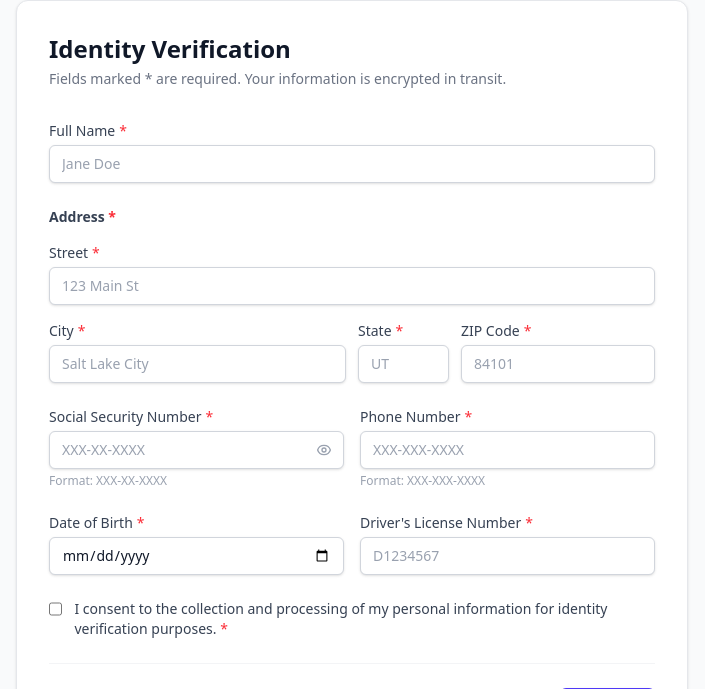
Test: IdentityForm — SSN toggle › clicking Show SSN reveals the real formatted value
Click the button named "show ssn".
click(324, 450)  # box [316,442,332,458]
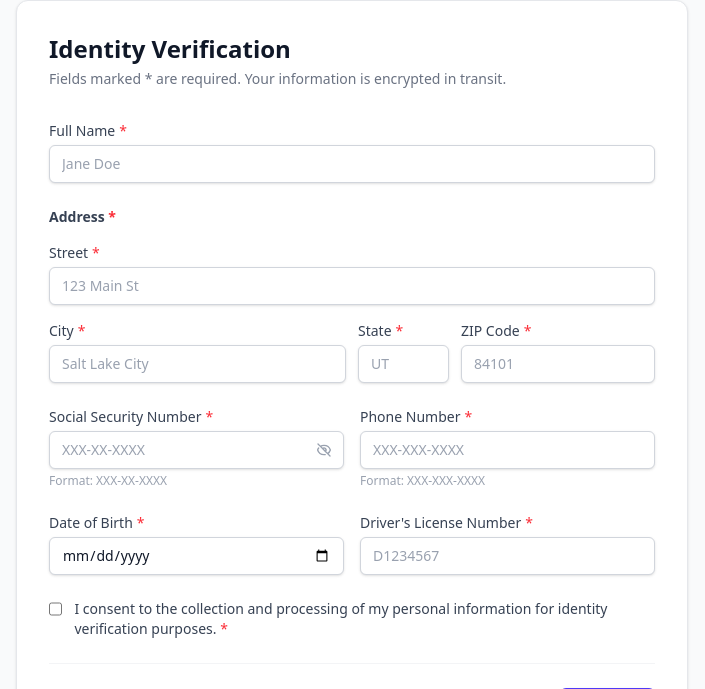
Type "123456789" into the field labelled "Social Security Number*".
click(196, 450); type("123456789")  # box [49,431,344,469]
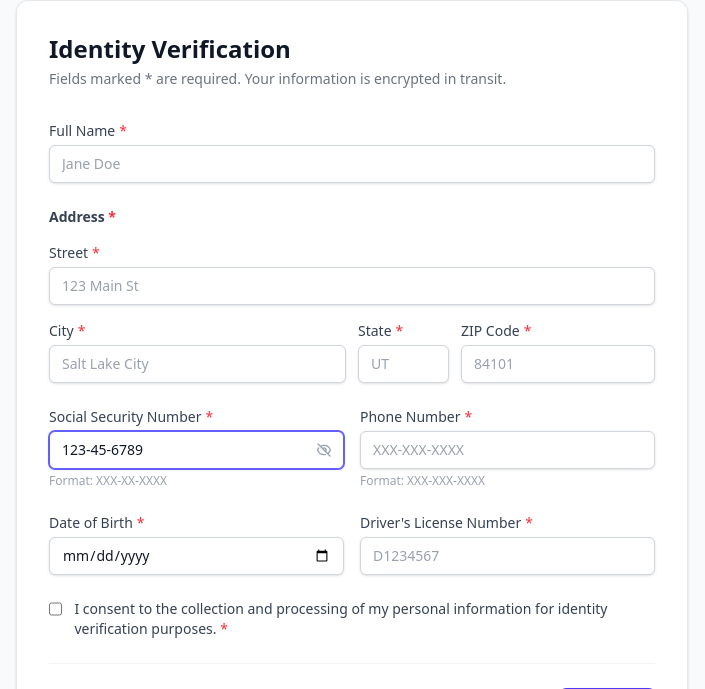
Press Tab
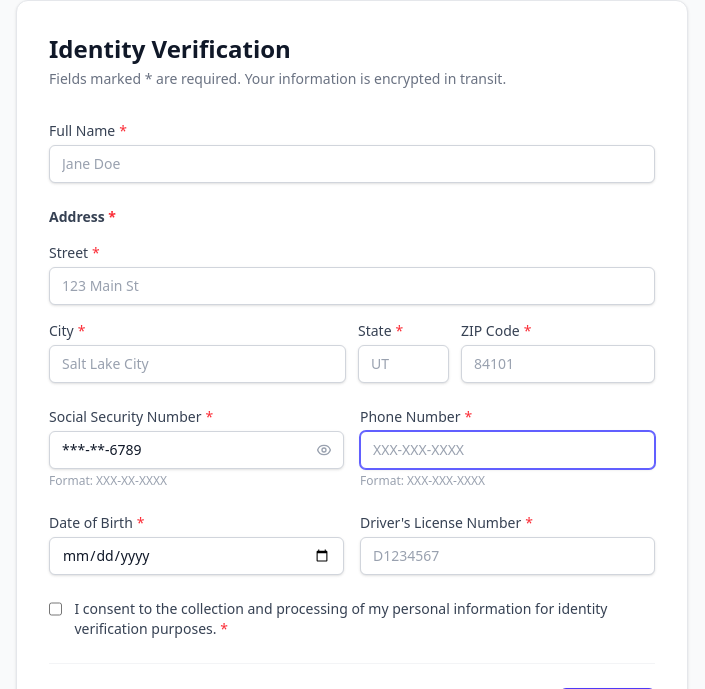
Click the button named "show ssn".
click(324, 450)  # box [316,442,332,458]
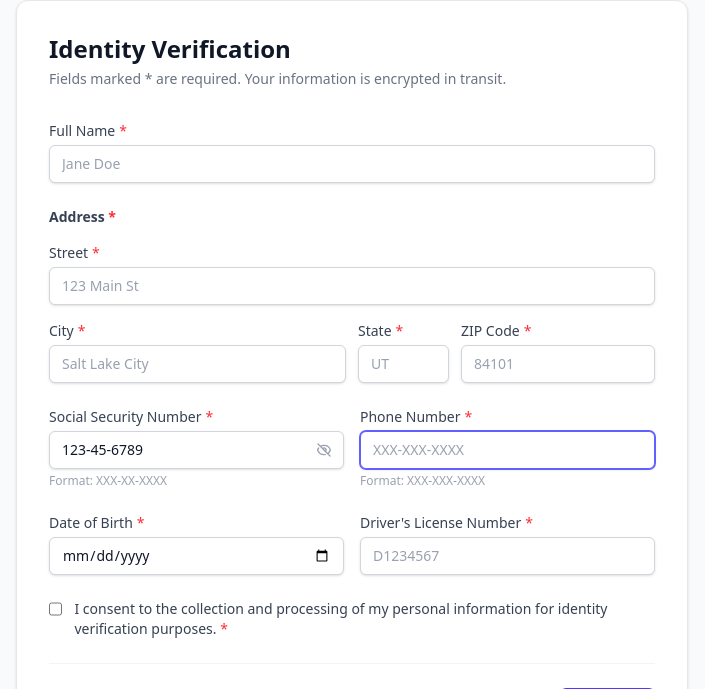
Now the field labelled "Social Security Number*" holds "123-45-6789", box [49,431,344,469]
